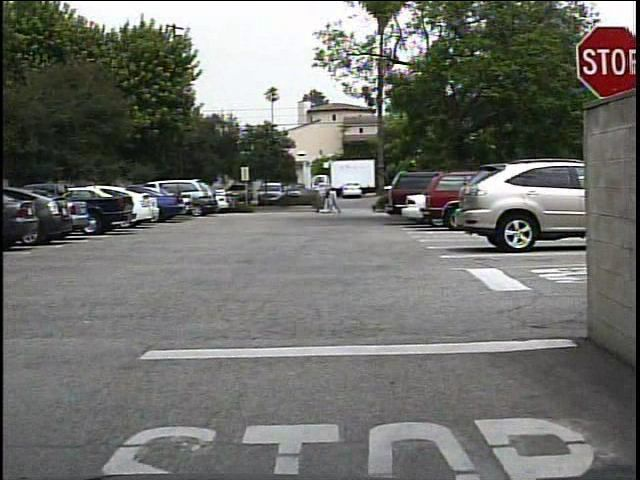person: (328, 186, 346, 216), (312, 186, 328, 215), (322, 186, 335, 217)
